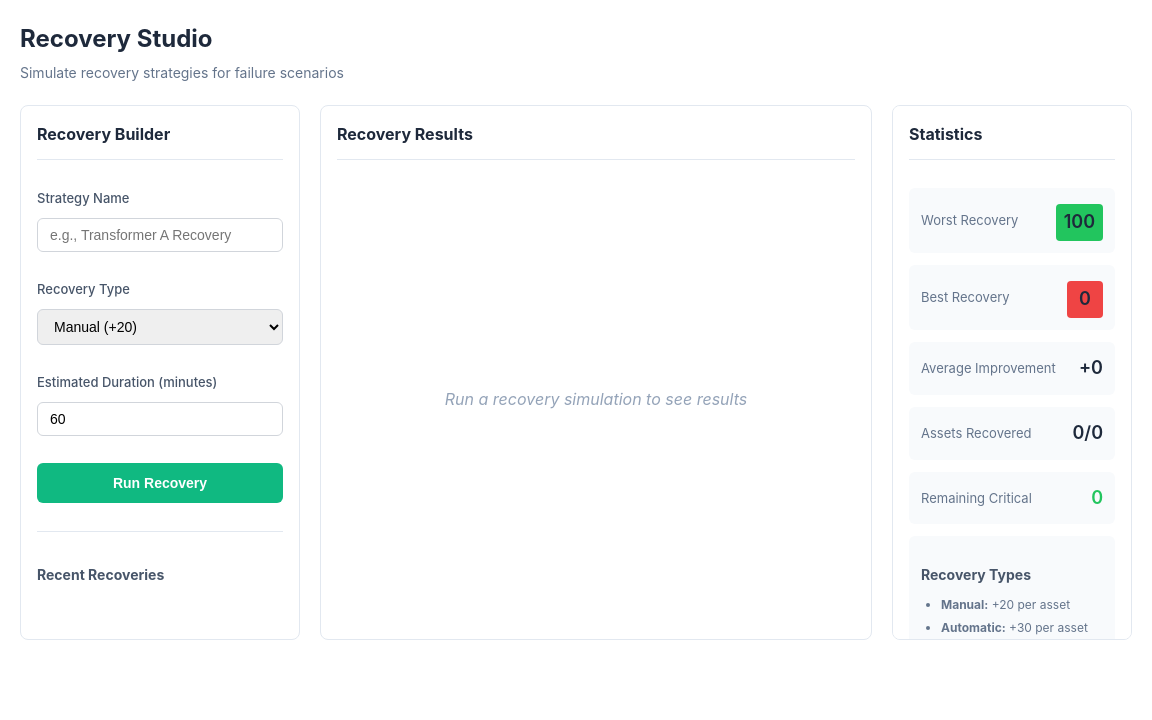
Scenario: Recovery Builder › shows error when name is empty
Click the button "Run Recovery": click(160, 483) [37, 463, 283, 503]
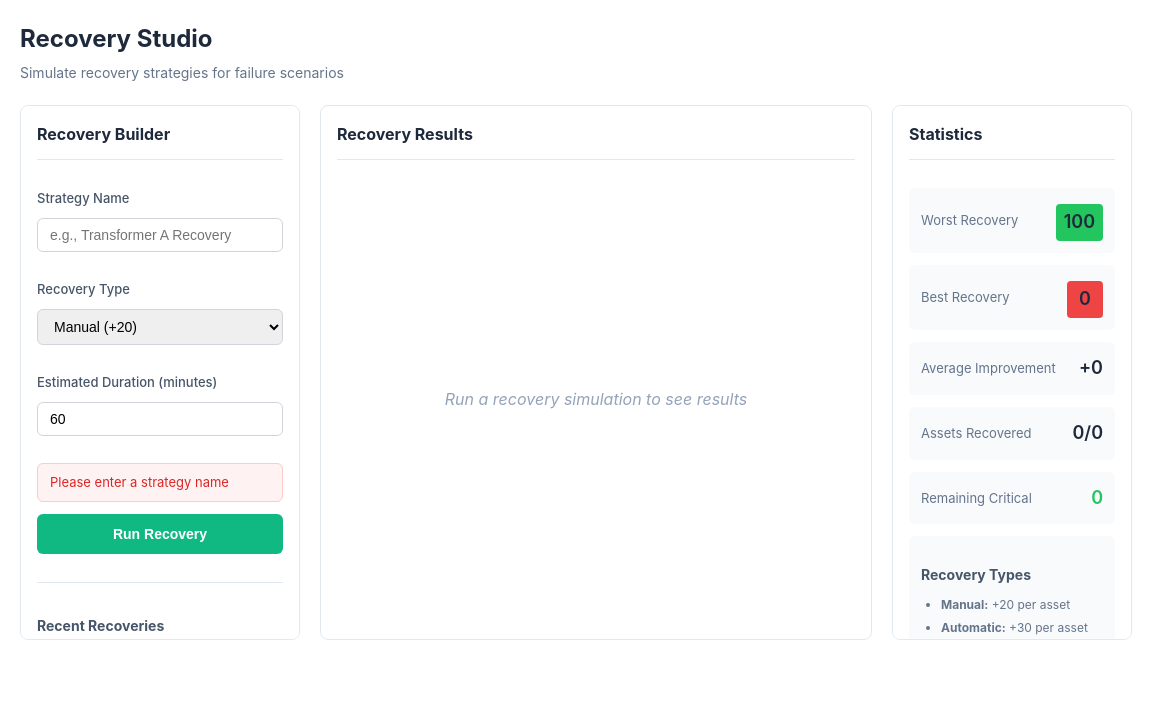
Result: the text "Please enter a strategy name" is shown at [37, 463, 283, 502]
